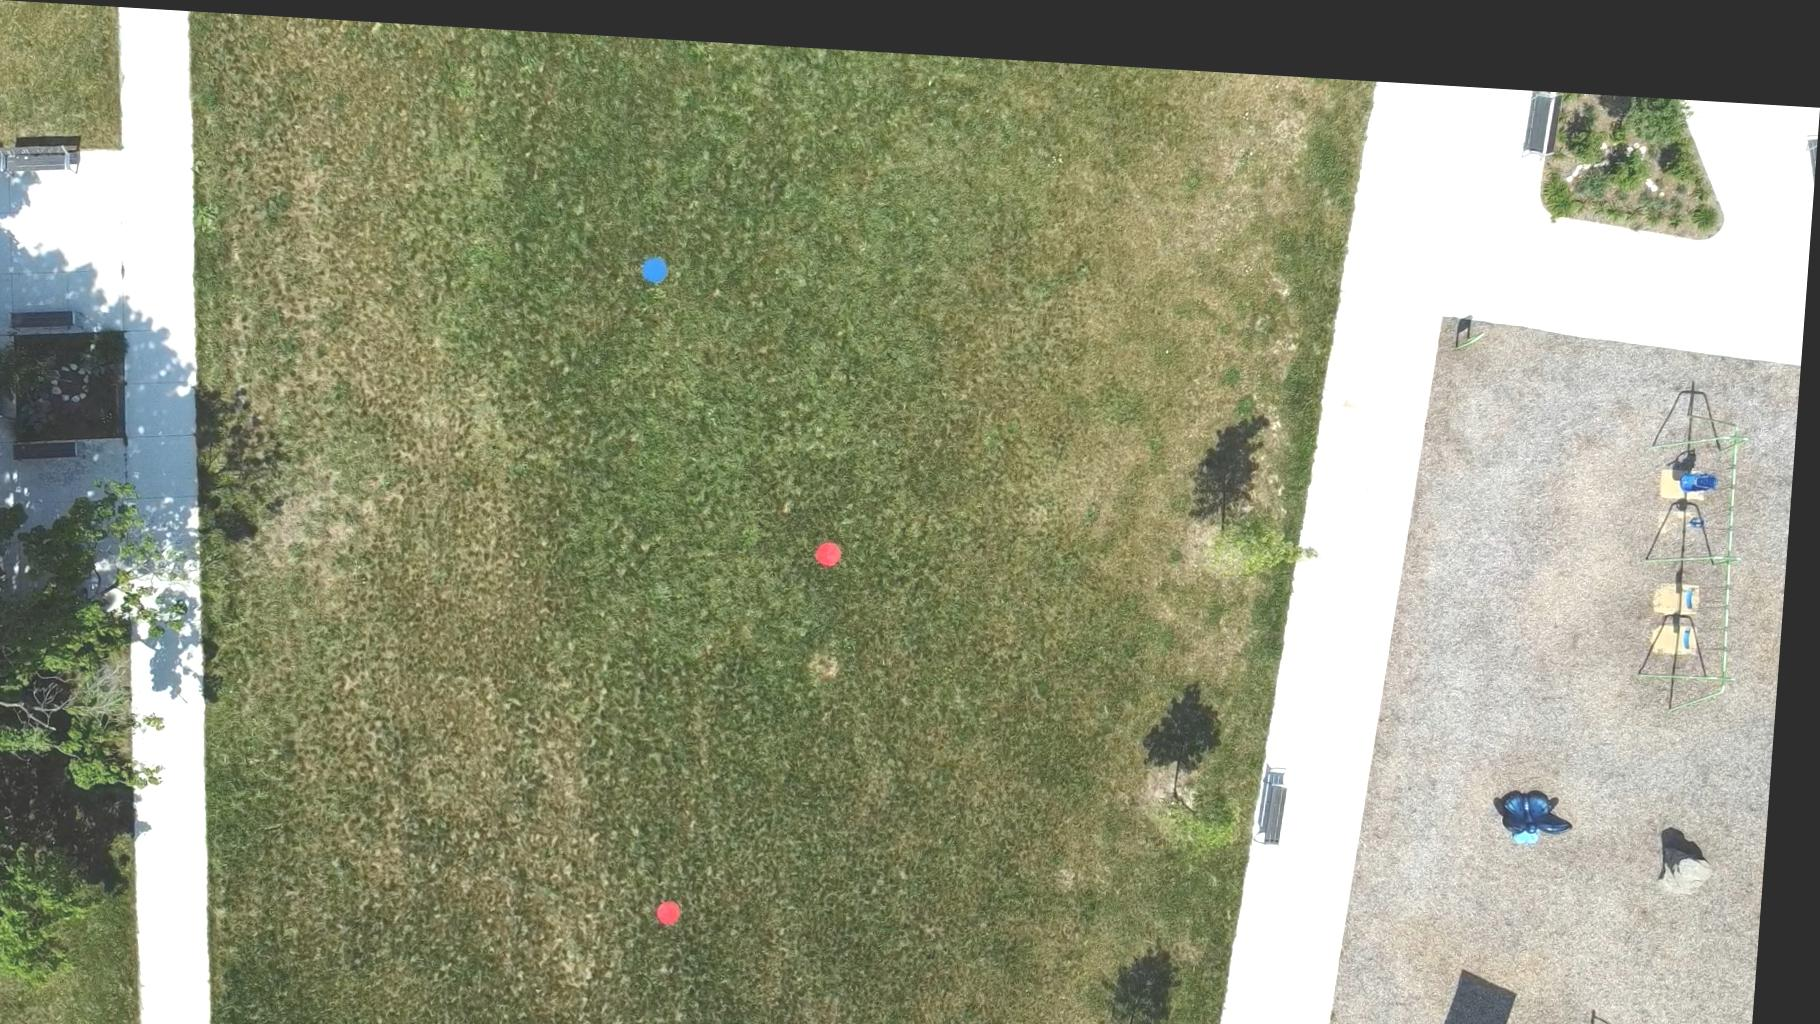Blue: (643, 248, 673, 276)
Red: (821, 529, 851, 558), (669, 890, 697, 917)
